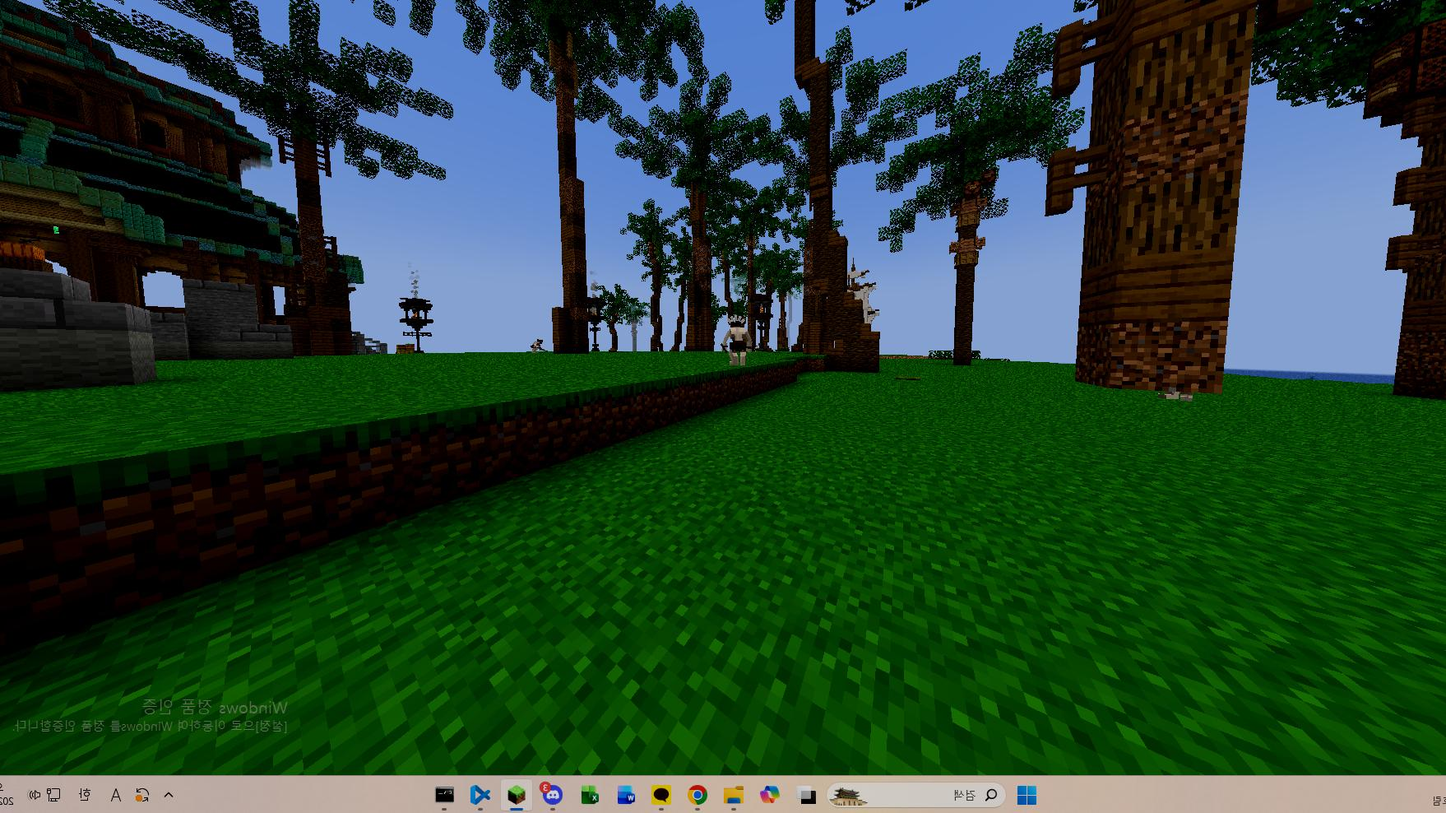bow_indian: (706, 307, 762, 382)
